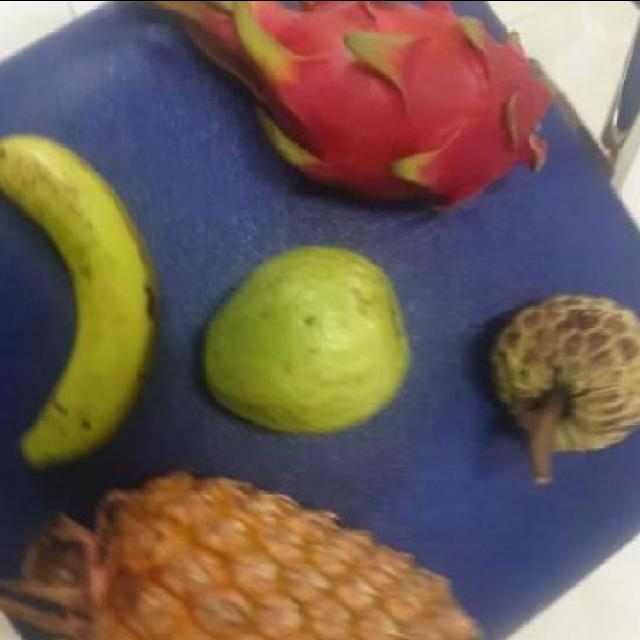banana: (0, 119, 158, 453)
dragon fruit: (259, 1, 539, 212)
guava: (206, 233, 410, 438)
sugar apple: (484, 282, 640, 464)
